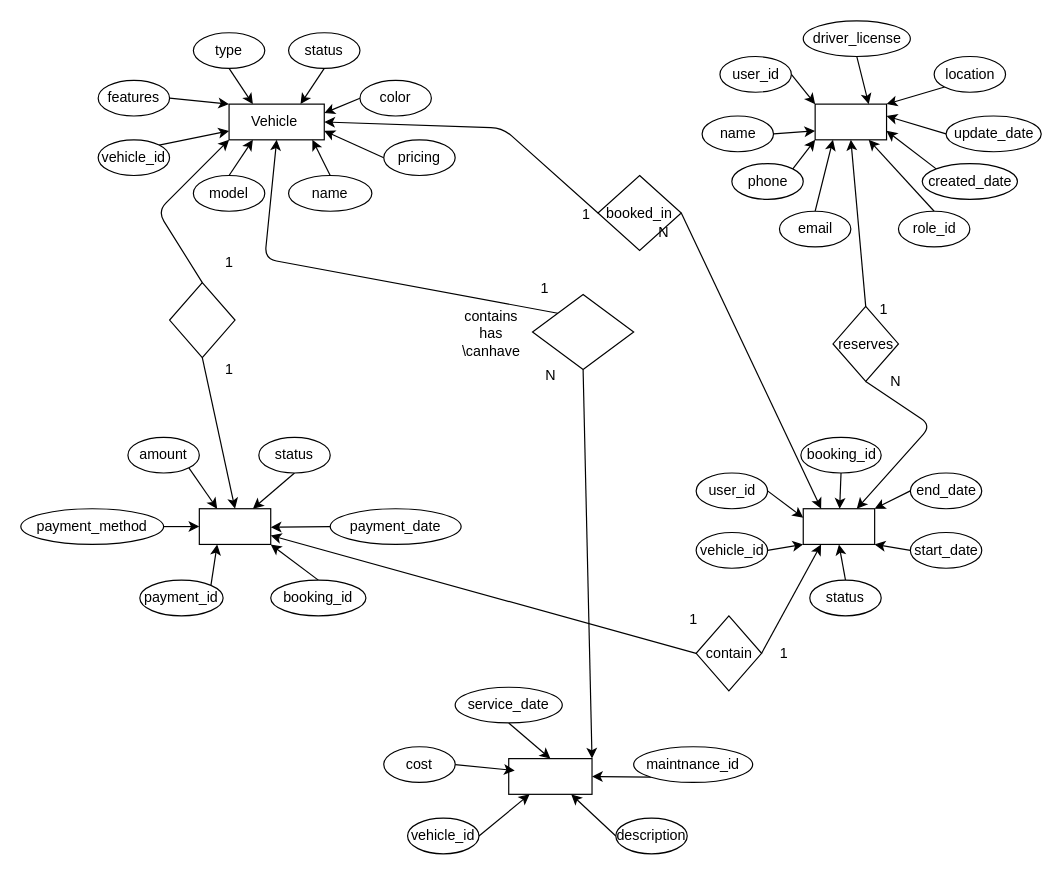
The diagram is 1063 pixels wide and 875 high, and some of its shapes have lost their labels. The shapes that lost their labels are listed below. From the top down, each one's centre as x and y in pixels, then its label:
At point (850, 121): "User".
At point (201, 319): "includes".
At point (582, 331): "schedules".
At point (234, 526): "Payment".
At point (838, 526): "Booking".
At point (550, 775): "Maintnance".
